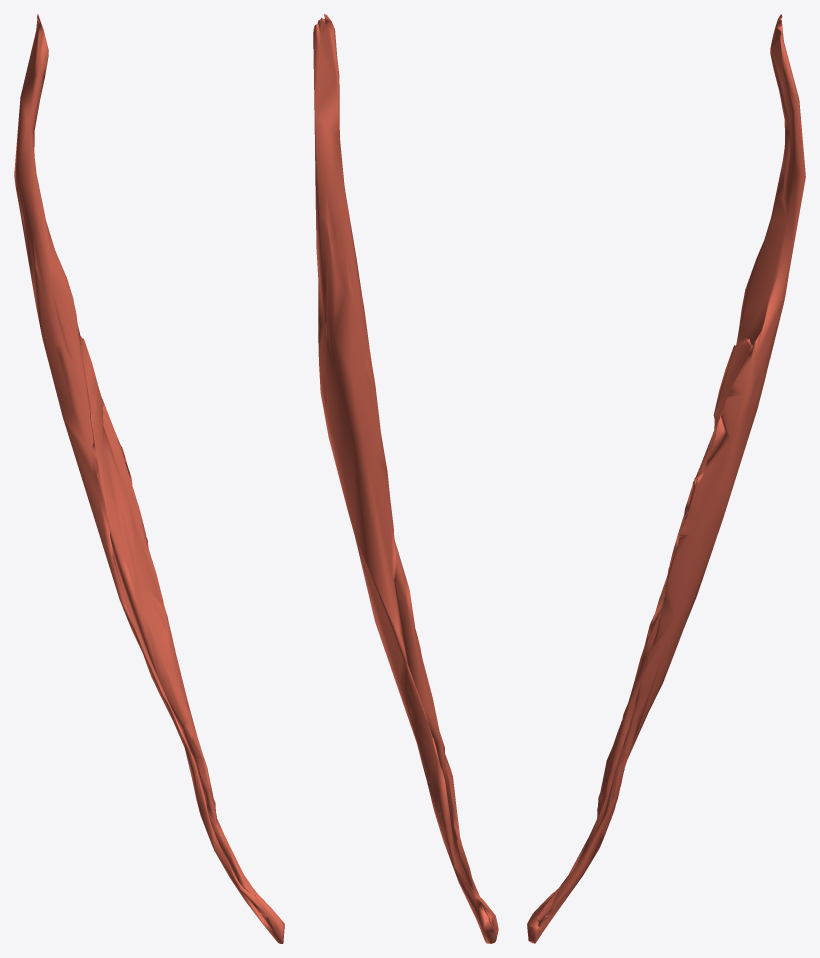
The model's file is extensor-carpi-ulnaris.glb.
The picture shows the model from 3 angles, left to right: view 1: azimuth 90°, elevation 25°; view 2: azimuth 150°, elevation 25°; view 3: azimuth 270°, elevation 25°; orthographic projection. The views are drawn at different scales.
Parts seen in each view (by area): view 1: Humeral head of extensor carpi ulnaris.r, Ulnar head of extensor carpi ulnaris.r; view 2: Humeral head of extensor carpi ulnaris.r, Ulnar head of extensor carpi ulnaris.r; view 3: Humeral head of extensor carpi ulnaris.r, Ulnar head of extensor carpi ulnaris.r.
Part boxes in pixels (x1,y1,x2,y2): Humeral head of extensor carpi ulnaris.r: (14,14,284,943); Ulnar head of extensor carpi ulnaris.r: (80,336,257,895); Humeral head of extensor carpi ulnaris.r: (313,14,498,943); Ulnar head of extensor carpi ulnaris.r: (394,540,480,898); Humeral head of extensor carpi ulnaris.r: (527,14,805,943); Ulnar head of extensor carpi ulnaris.r: (537,338,752,927).
Bounding box in the file's own units: 0.0191 × 0.289 × 0.0774.
